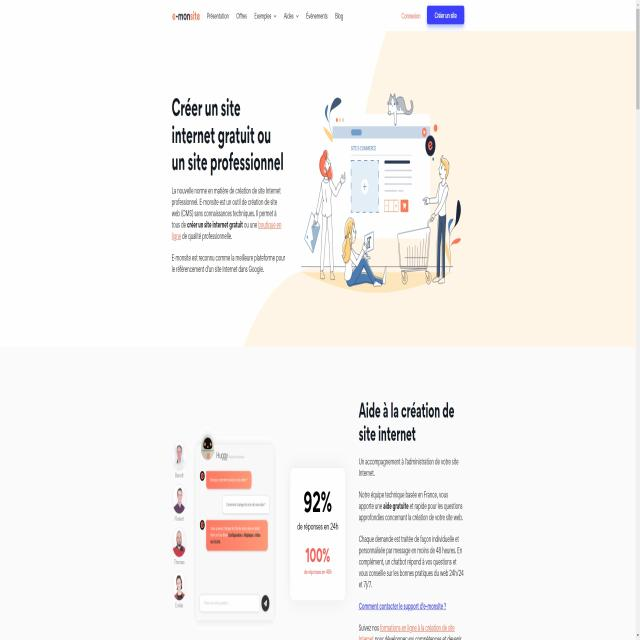menu-bar: (398, 5, 467, 25)
tab-bar: (169, 4, 345, 25)
